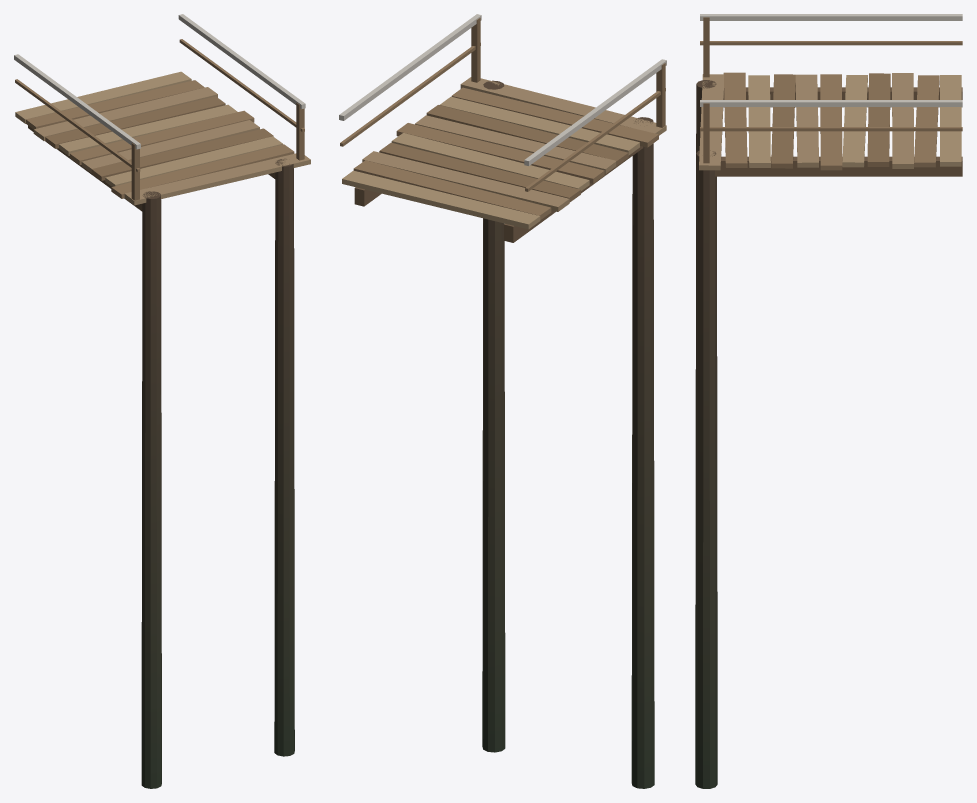
The model's file is Pier_Section.glb.
The picture shows the model from 3 angles, left to right: view 1: azimuth 30°, elevation 25°; view 2: azimuth 150°, elevation 25°; view 3: azimuth 270°, elevation 25°; orthographic projection. The views are drawn at different scales.
Parts seen in each view (by area): view 1: Pier_Section; view 2: Pier_Section; view 3: Pier_Section.
Part boxes in pixels (bbox=[...]): Pier_Section: bbox=[14, 14, 310, 788]; Pier_Section: bbox=[339, 14, 666, 788]; Pier_Section: bbox=[695, 14, 962, 788].
Size of the model in its own units: 3.35 by 11.62 by 4.07.
